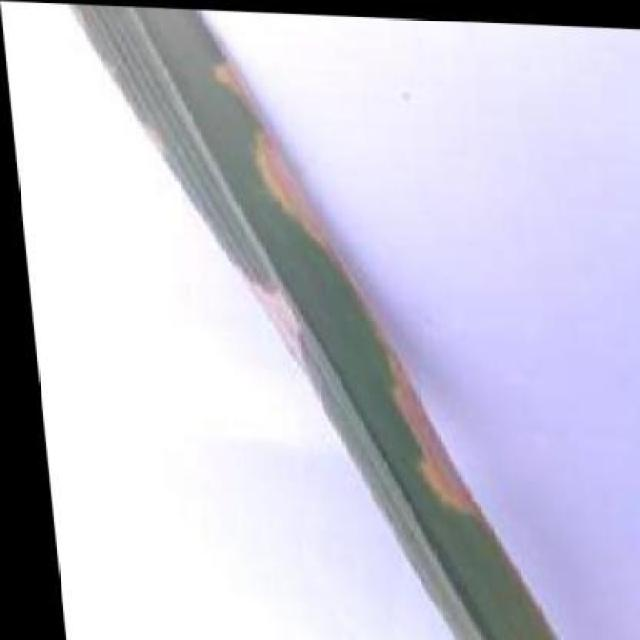Brown_Spot: (183, 34, 362, 266), (348, 326, 503, 548), (54, 61, 188, 268), (192, 242, 331, 426), (348, 547, 606, 640), (352, 554, 476, 640), (1, 1, 107, 97)
